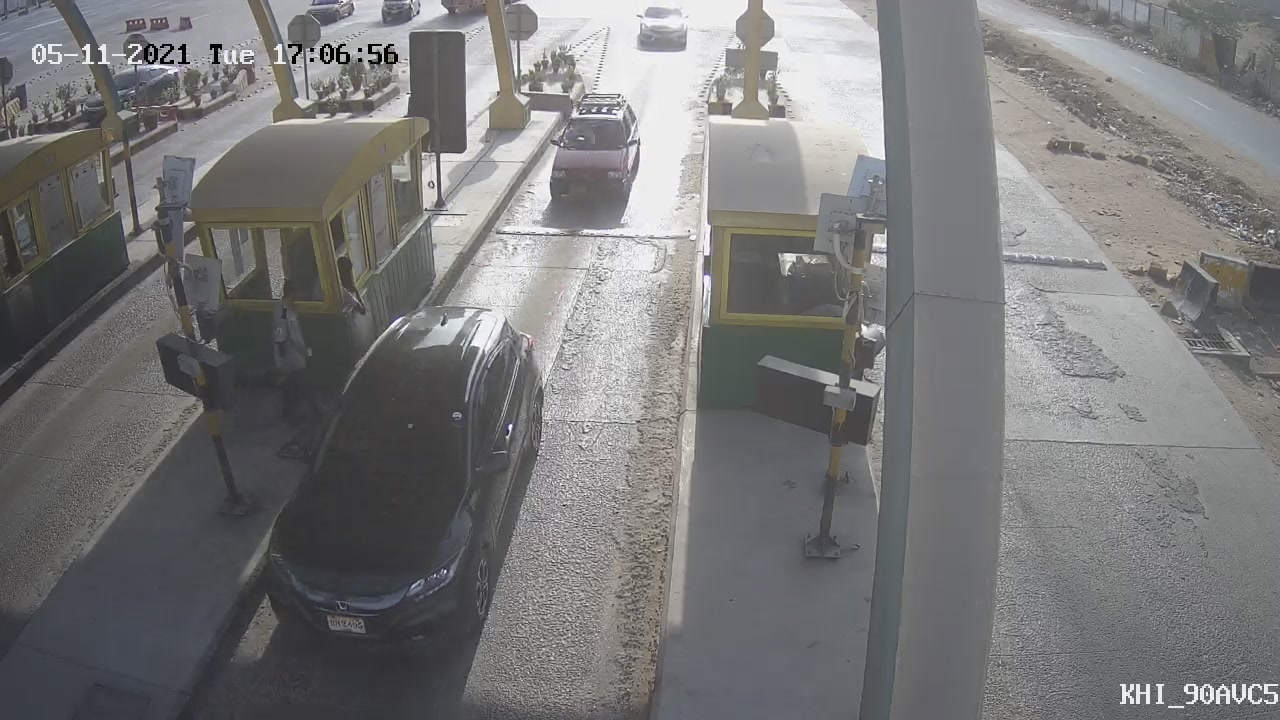F1: (522, 78, 656, 226)
